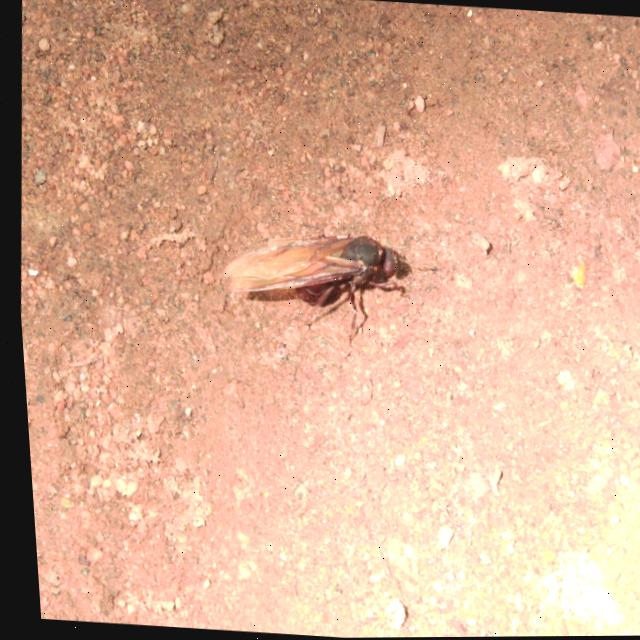Alive-Female-Alate: (210, 225, 406, 364)
